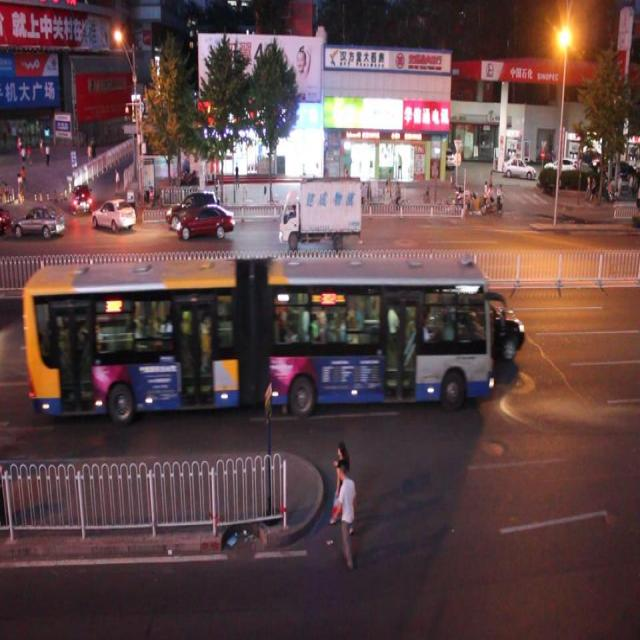bus: (280, 176, 361, 249)
car: (444, 296, 525, 361), (166, 185, 223, 232), (11, 202, 65, 241), (178, 203, 233, 239), (91, 195, 138, 232), (70, 182, 93, 215)
van: (25, 259, 490, 405)
